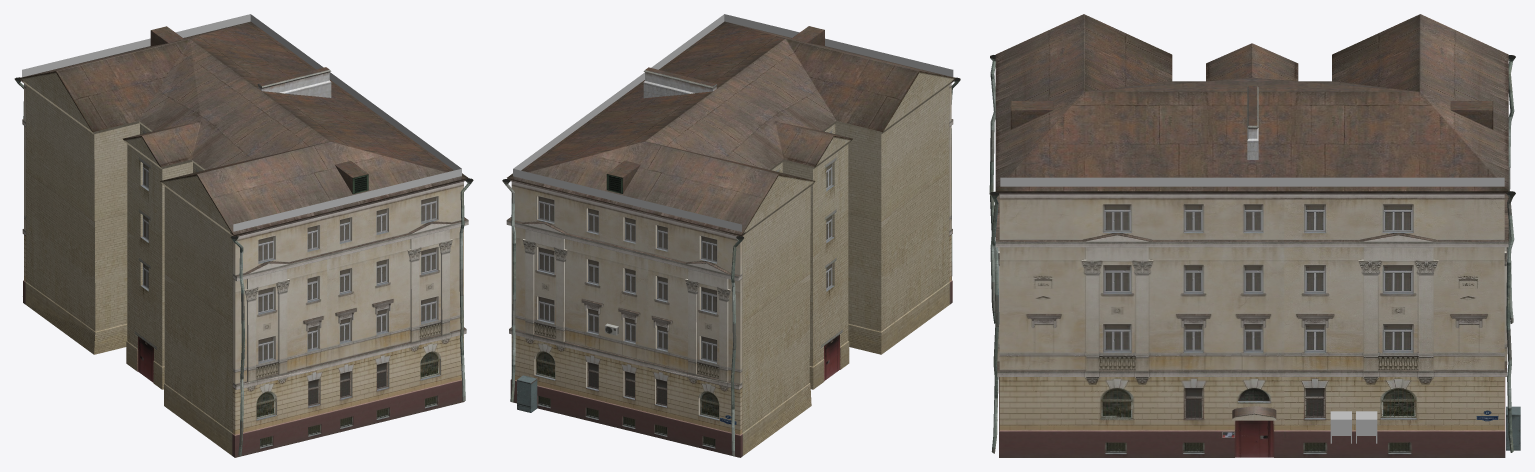
Rendered from XP7NXP6TNPFZ4GATCQ90HYL7P.obj.
3 views of the same model, side by side, from view 1: azimuth 30°, elevation 25°; view 2: azimuth 150°, elevation 25°; view 3: azimuth 270°, elevation 25° (orthographic). The views are drawn at different scales.
Visible parts, largest first — view 1: Object_house_ostoghenka_47.jpg, Object_house_ostoghenka_47_alpha.jpg; view 2: Object_house_ostoghenka_47.jpg, Object_house_ostoghenka_47_alpha.jpg; view 3: Object_house_ostoghenka_47.jpg, Object_house_ostoghenka_47_alpha.jpg.
Boxes of the visible parts, x1,y1,x2,y2 form: Object_house_ostoghenka_47.jpg: [14, 21, 473, 457]; Object_house_ostoghenka_47_alpha.jpg: [22, 14, 461, 231]; Object_house_ostoghenka_47.jpg: [502, 21, 960, 457]; Object_house_ostoghenka_47_alpha.jpg: [513, 14, 953, 231]; Object_house_ostoghenka_47.jpg: [989, 14, 1520, 457]; Object_house_ostoghenka_47_alpha.jpg: [1000, 177, 1504, 443].
Bounding box in the file's own units: 1.62 × 1.63 × 2.5.
